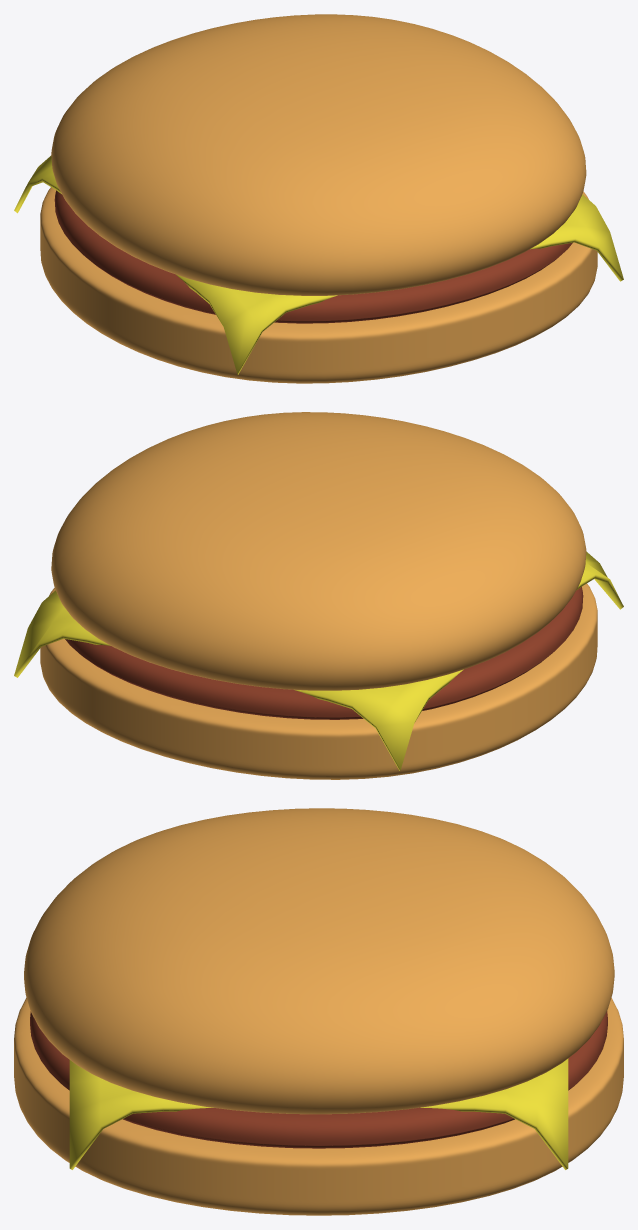
The model's file is hamburger.glb.
3 renders of one model, top to bottom at view 1: azimuth 30°, elevation 25°; view 2: azimuth 150°, elevation 25°; view 3: azimuth 270°, elevation 25°, orthographic. The views are drawn at different scales.
Parts seen in each view (by area): view 1: Cube.002, Cube, Cube.001, Plane; view 2: Cube.002, Cube, Cube.001, Plane; view 3: Cube.002, Cube, Cube.001, Plane.
Boxes of the visible parts, <box> form: Cube.002: <box>51,14,586,295</box>; Cube: <box>40,187,597,383</box>; Cube.001: <box>54,190,572,323</box>; Plane: <box>14,155,623,374</box>; Cube.002: <box>51,412,586,690</box>; Cube: <box>40,583,597,779</box>; Cube.001: <box>65,586,583,719</box>; Plane: <box>14,551,623,770</box>; Cube.002: <box>24,808,614,1114</box>; Cube: <box>14,997,623,1215</box>; Cube.001: <box>30,1011,607,1148</box>; Plane: <box>69,1058,568,1169</box>.
Size of the model in its own units: 9.17 by 3.95 by 9.17.
